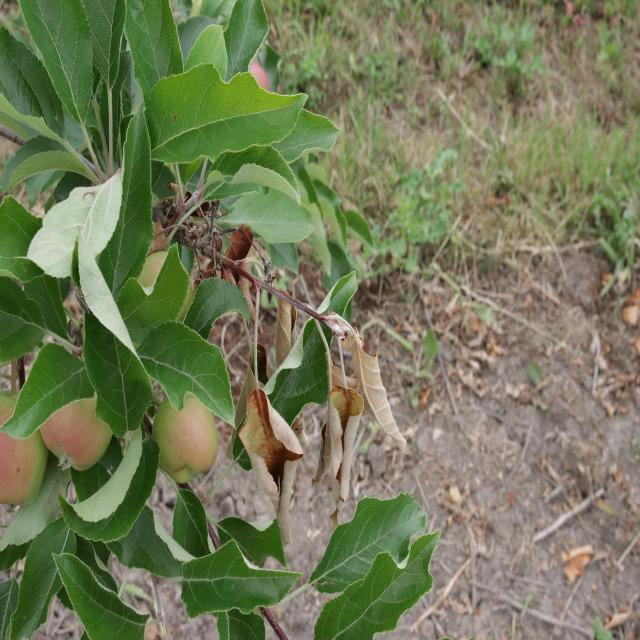-FireBlight-: (304, 308, 402, 492), (240, 259, 291, 518)
